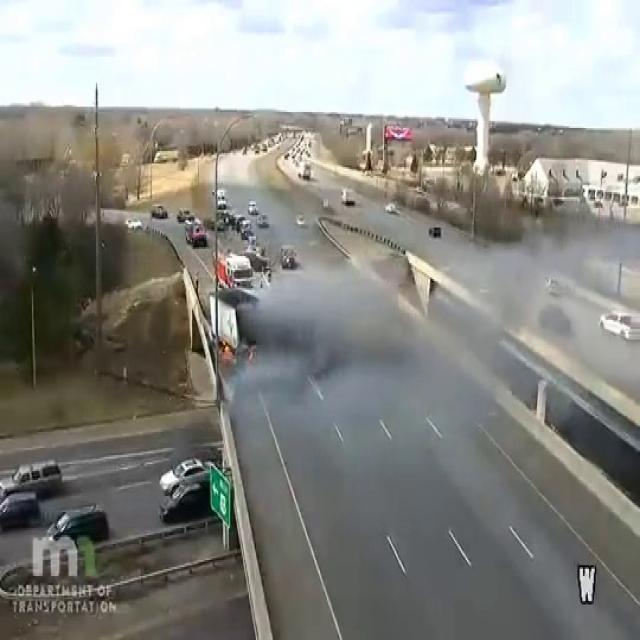Smoke: (236, 174, 400, 416)
